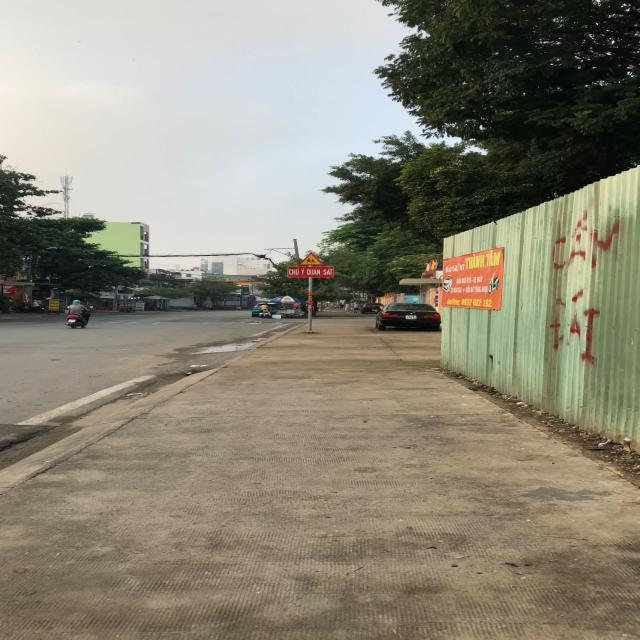Bien bao tre em: (298, 251, 327, 267)
